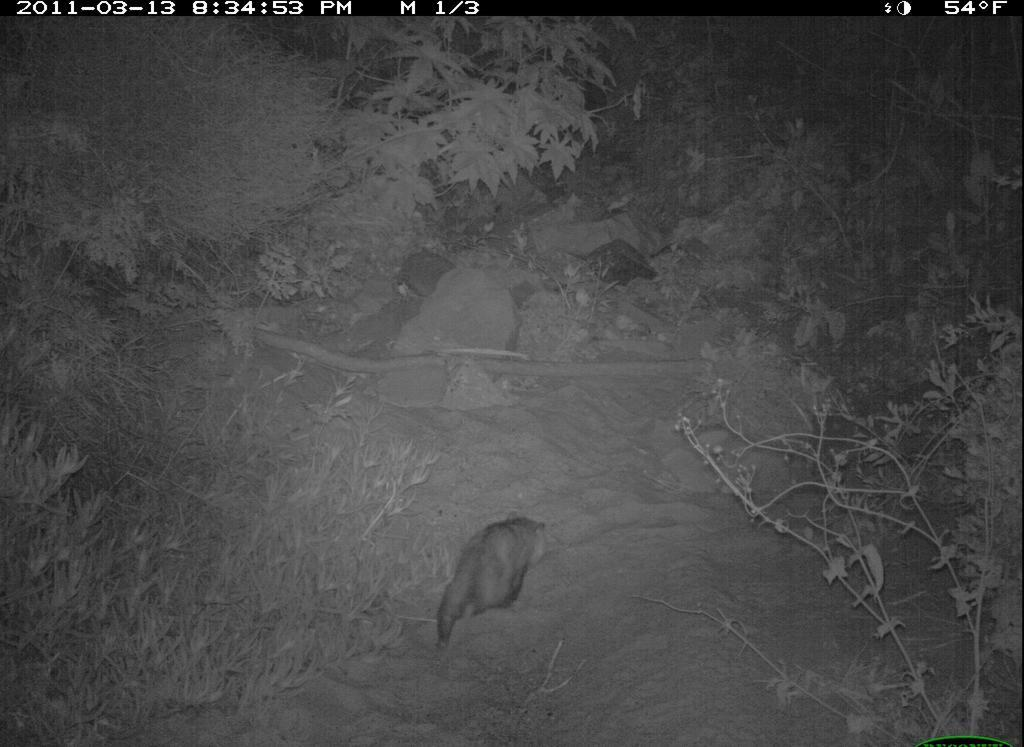opossum: (410, 492, 602, 665)
